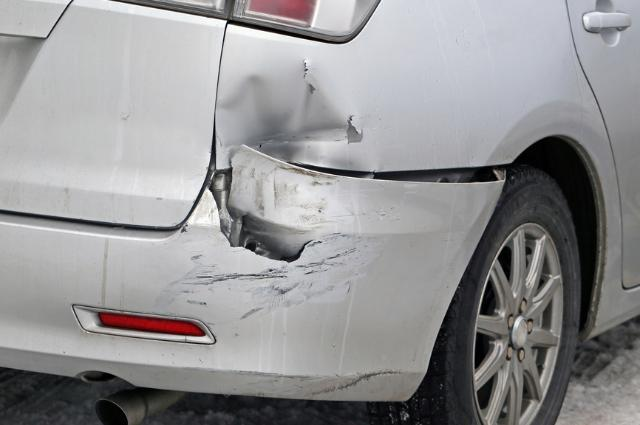Bumper: (158, 147, 504, 396)
Fender: (220, 27, 384, 172)
